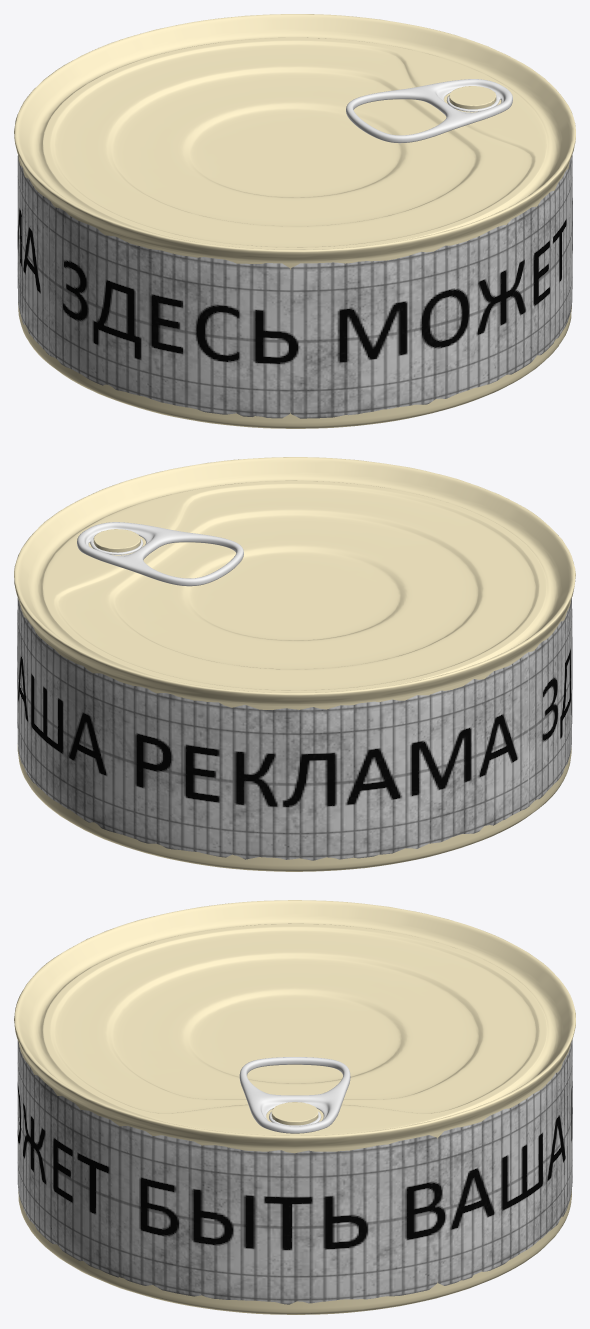
The model's file is food-transformed.glb.
3 renders of one model, top to bottom at view 1: azimuth 30°, elevation 25°; view 2: azimuth 150°, elevation 25°; view 3: azimuth 270°, elevation 25°, orthographic.
Parts seen in each view (by area): view 1: banka_0, logo_2, metall_1; view 2: banka_0, logo_2, metall_1; view 3: banka_0, logo_2, metall_1.
Boxes of the visible parts, x1=… form: banka_0: x1=14, y1=14, x2=575, y2=428; logo_2: x1=17, y1=155, x2=572, y2=418; metall_1: x1=346, y1=79, x2=512, y2=143; banka_0: x1=14, y1=457, x2=575, y2=871; logo_2: x1=17, y1=598, x2=572, y2=860; metall_1: x1=77, y1=522, x2=243, y2=586; banka_0: x1=14, y1=900, x2=575, y2=1314; logo_2: x1=17, y1=1039, x2=572, y2=1304; metall_1: x1=239, y1=1057, x2=350, y2=1133.
Bounding box in the file's own units: 2.02 × 0.7292 × 2.02.
3 materials, 3 textured.
